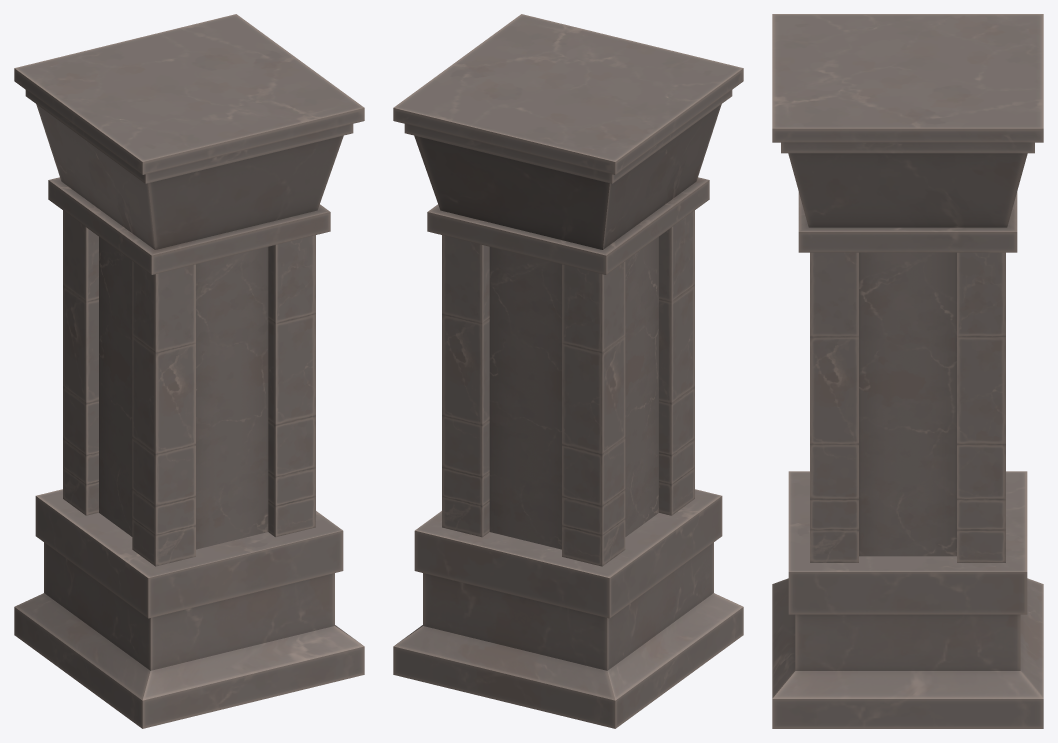
Rendered from Pillar_B.fbx.
The picture shows the model from 3 angles, left to right: view 1: azimuth 30°, elevation 25°; view 2: azimuth 150°, elevation 25°; view 3: azimuth 270°, elevation 25°; orthographic projection. The views are drawn at different scales.
Parts seen in each view (by area): view 1: Pillar_B; view 2: Pillar_B; view 3: Pillar_B.
Boxes of the visible parts, x1=… form: Pillar_B: x1=14, y1=14, x2=364, y2=728; Pillar_B: x1=393, y1=14, x2=743, y2=728; Pillar_B: x1=772, y1=14, x2=1043, y2=728.
Bounding box in the file's own units: 82 × 200 × 82.
